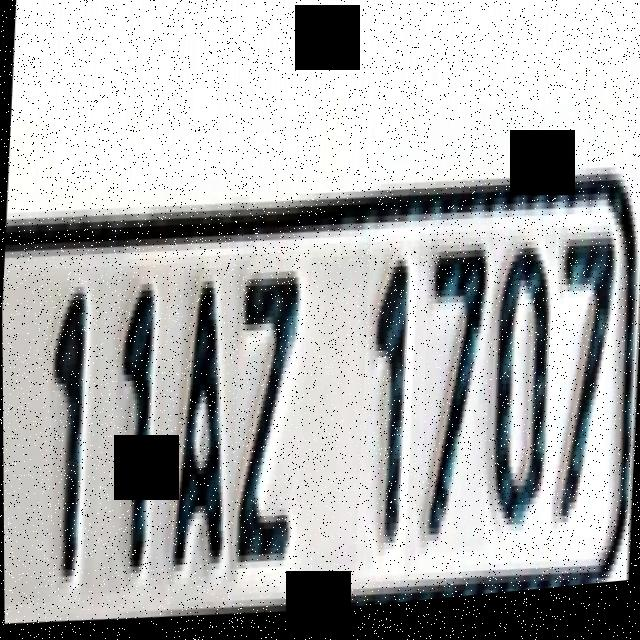0: (481, 245, 559, 551)
1: (353, 231, 422, 588), (33, 259, 100, 598), (105, 266, 172, 597)
7: (540, 213, 622, 554), (415, 225, 494, 565)
A: (166, 269, 245, 623)
Z: (225, 256, 313, 603)
